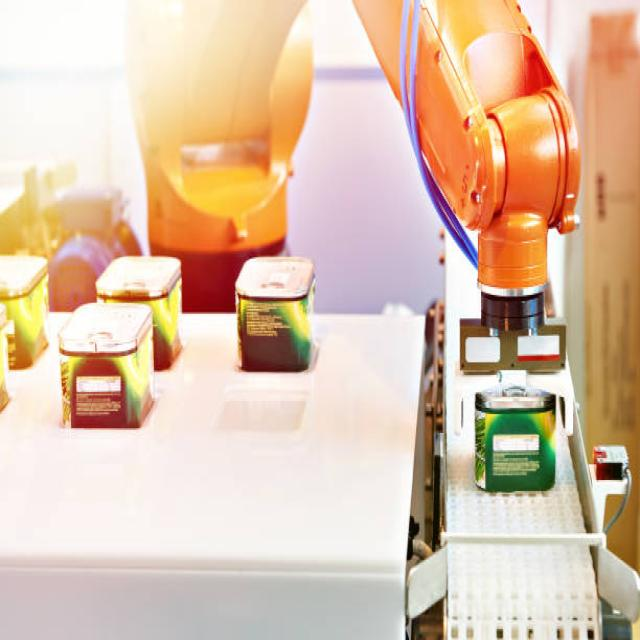Robotic-arm: (120, 0, 585, 343)
